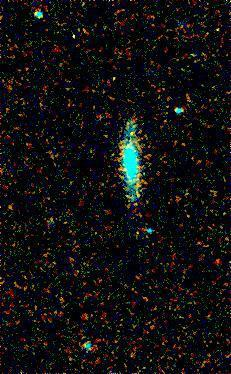star: (112, 119, 142, 149)
